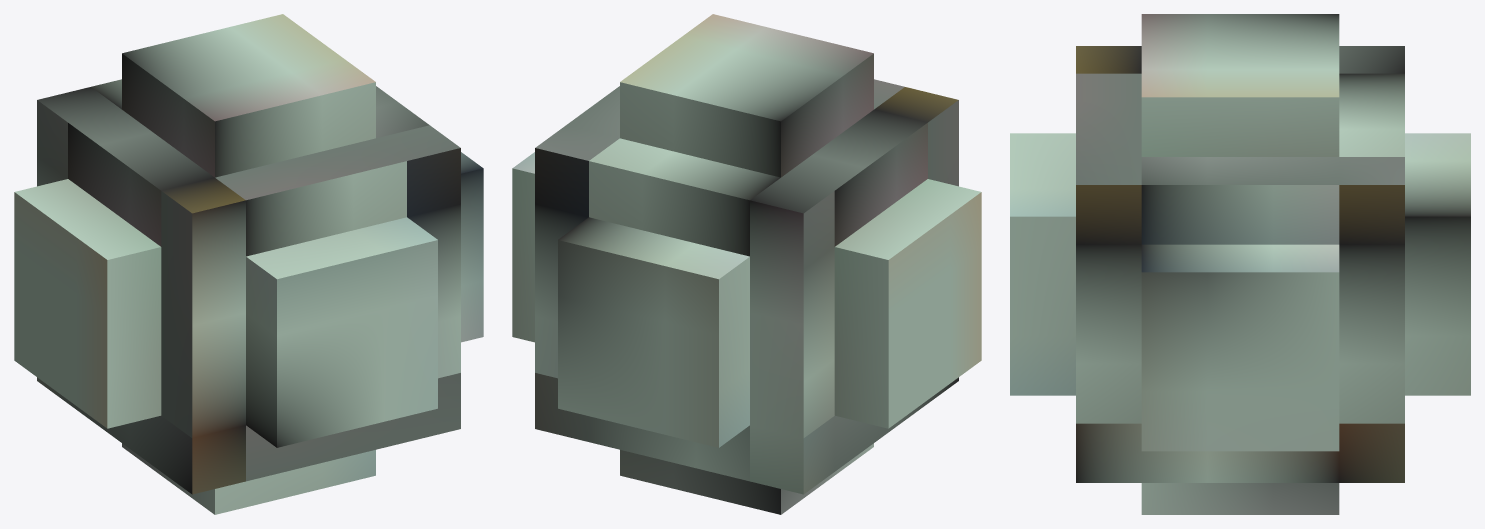
Rendered from BallSoccer_00.fbx.
3 views of the same model, side by side, from view 1: azimuth 30°, elevation 25°; view 2: azimuth 150°, elevation 25°; view 3: azimuth 270°, elevation 25° (orthographic). The views are drawn at different scales.
Visible parts, largest first — view 1: BallSoccer_00; view 2: BallSoccer_00; view 3: BallSoccer_00.
Boxes of the visible parts, left/top/right/bottom form: BallSoccer_00: left=14, top=14, right=483, bottom=514; BallSoccer_00: left=512, top=14, right=981, bottom=514; BallSoccer_00: left=1010, top=14, right=1470, bottom=514.
Bounding box in the file's own units: 35 × 35 × 35.
1 material, 1 textured.
